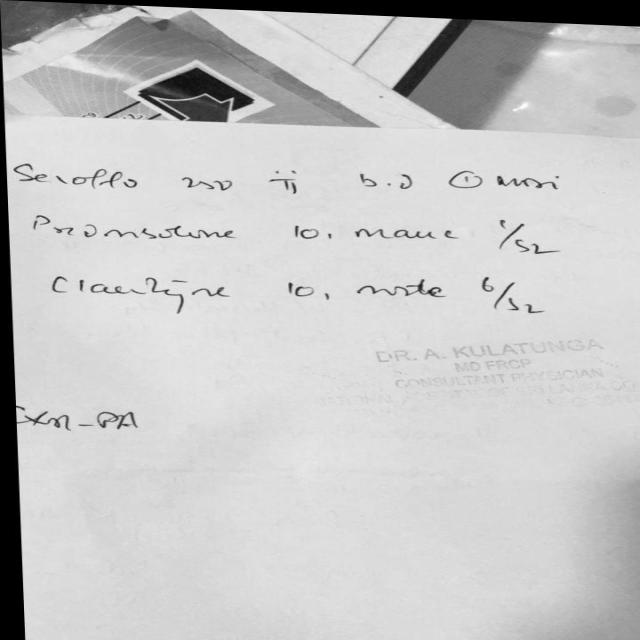Prescription: (36, 257, 551, 317), (8, 150, 574, 204), (25, 196, 568, 252)
